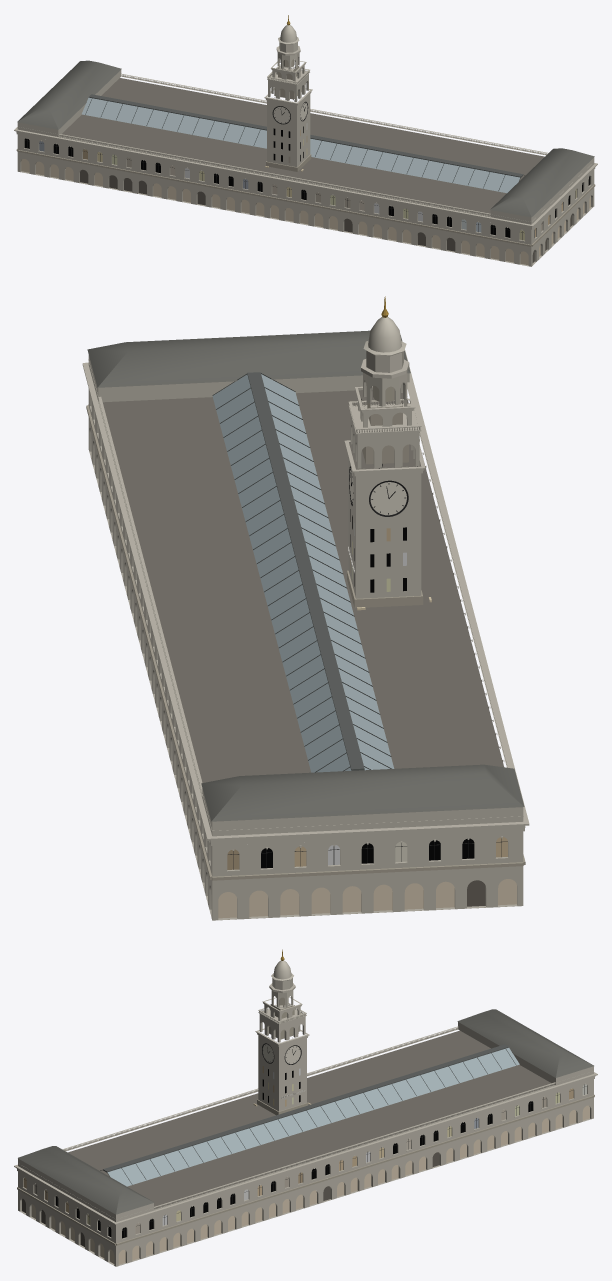
The model's file is ferry_lod0.glb.
The picture shows the model from 3 angles, top to bottom: view 1: azimuth 30°, elevation 25°; view 2: azimuth 150°, elevation 25°; view 3: azimuth 270°, elevation 25°; orthographic projection. The views are drawn at different scales.
Visible parts, largest first — view 1: L0_stone, L0_roof, L0_glassc, L0_shop, L0_metal, L0_win, L0_lamp; view 2: L0_roof, L0_stone, L0_glassc, L0_metal, L0_shop, L0_win, L0_lamp; view 3: L0_stone, L0_roof, L0_glassc, L0_shop, L0_metal, L0_win.
Boxes of the visible parts, x1,y1,x2,y2 form: L0_stone: (14, 25, 597, 266); L0_roof: (17, 60, 594, 217); L0_glassc: (82, 97, 519, 193); L0_shop: (21, 159, 590, 265); L0_metal: (25, 94, 589, 239); L0_win: (24, 123, 590, 240); L0_lamp: (265, 102, 307, 171); L0_roof: (87, 330, 524, 821); L0_stone: (82, 317, 529, 920); L0_glassc: (212, 374, 394, 772); L0_metal: (212, 372, 507, 869); L0_shop: (218, 879, 516, 918); L0_win: (227, 509, 507, 869); L0_lamp: (349, 468, 431, 610); L0_stone: (14, 960, 597, 1266); L0_roof: (18, 1009, 593, 1214); L0_glassc: (107, 1047, 519, 1186); L0_shop: (22, 1105, 589, 1264); L0_metal: (24, 1037, 586, 1237); L0_win: (23, 1066, 586, 1238).
Size of the model in its own units: 167 by 75.3 by 198.
